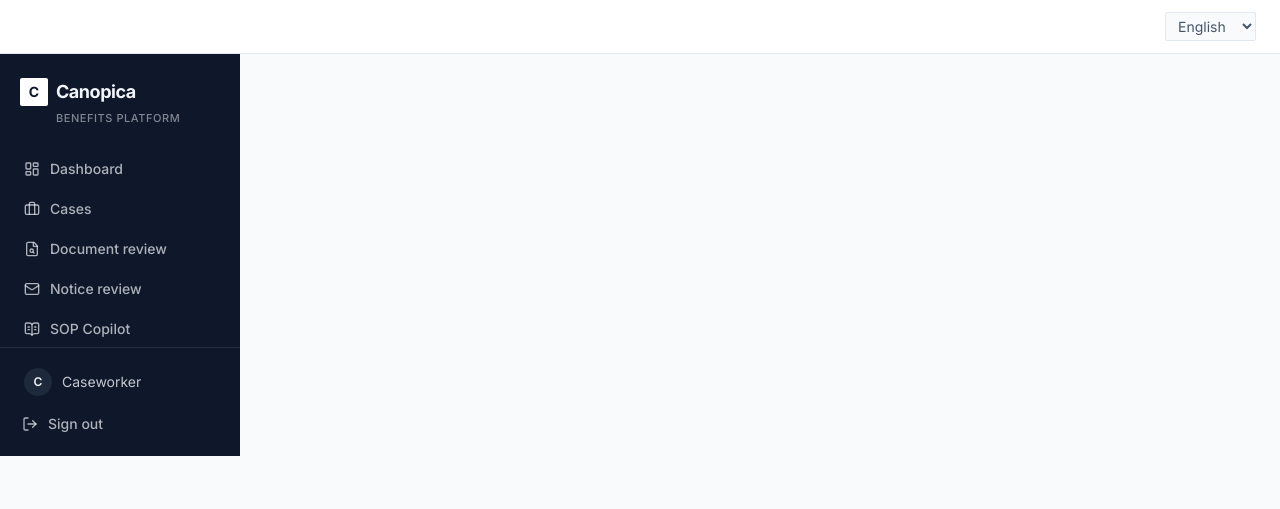
Scenario: switching the language selector re-renders already-mounted copy in the new language
Expected: the link "Dashboard" is shown, [24,160,123,176]
Expected: the button "Sign out" is shown, [12,408,228,440]
Select "Español" in the dropdown named "language" at (1210, 26), box [1165,12,1256,41]
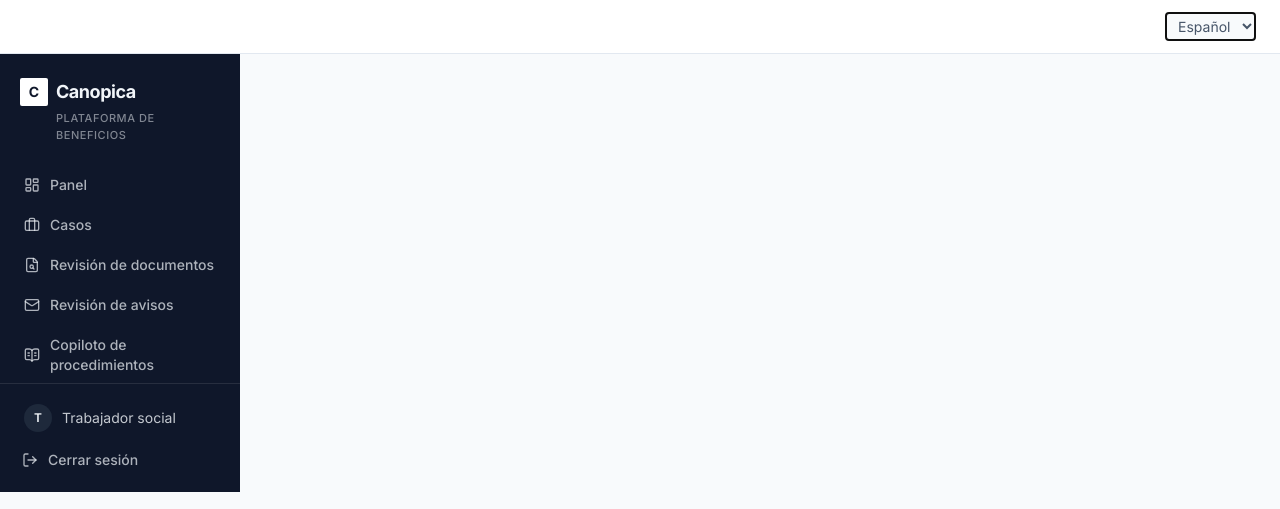
Result: the link "Panel" is shown at [24,176,87,193]
Result: the button "Cerrar sesión" is shown at [12,444,228,476]
Result: the link "Dashboard" is gone
